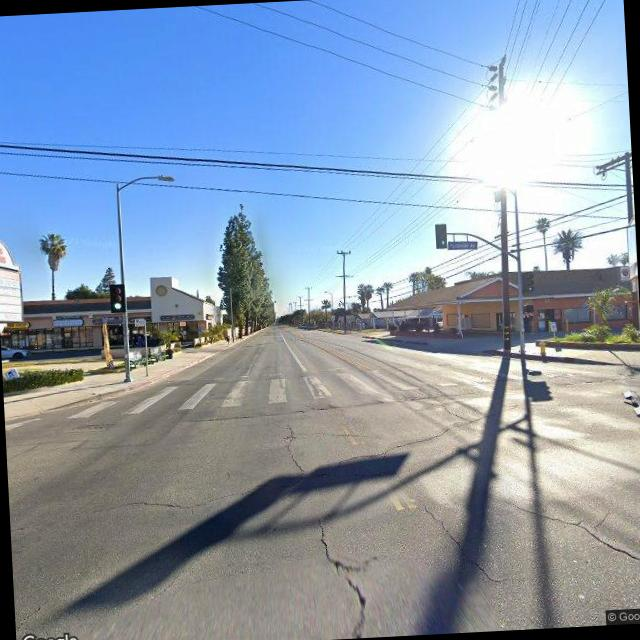crack: (74, 405, 516, 524), (495, 488, 632, 569), (314, 512, 386, 640), (418, 499, 491, 581), (286, 412, 308, 483)
